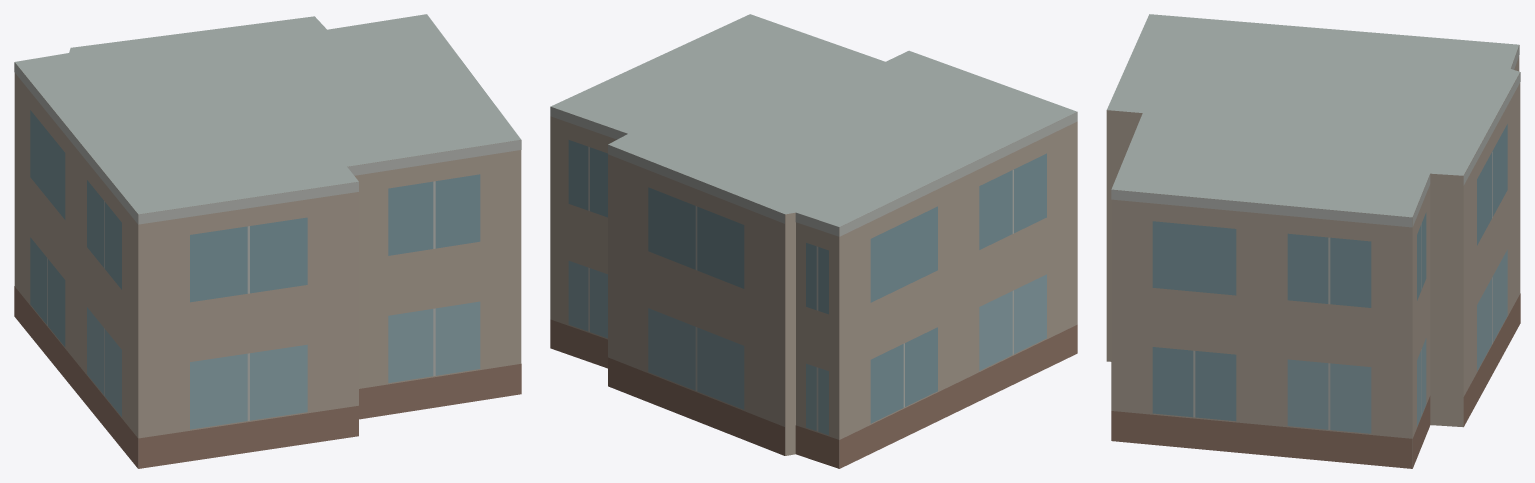
File: survey-upis-32654126.glb
3 views of the same model, side by side, from view 1: azimuth 30°, elevation 25°; view 2: azimuth 150°, elevation 25°; view 3: azimuth 270°, elevation 25° (orthographic). The views are drawn at different scales.
Visible parts, largest first — view 1: survey-upis-32654126.tmp; view 2: survey-upis-32654126.tmp; view 3: survey-upis-32654126.tmp.
Part boxes in pixels (<box>): survey-upis-32654126.tmp: <box>14,14,521,468</box>; survey-upis-32654126.tmp: <box>550,14,1077,468</box>; survey-upis-32654126.tmp: <box>1106,14,1520,468</box>.
Bounding box in the file's own units: 10.59 × 6.1 × 9.11.
